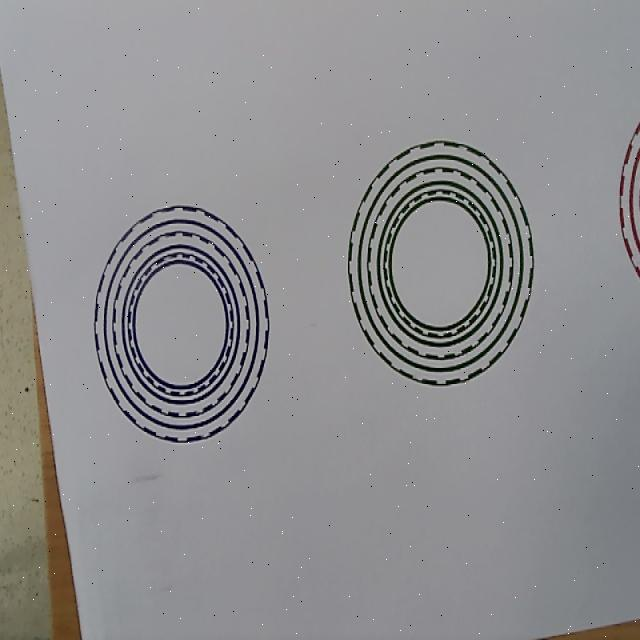b: (94, 205, 270, 444)
g: (348, 140, 535, 386)
